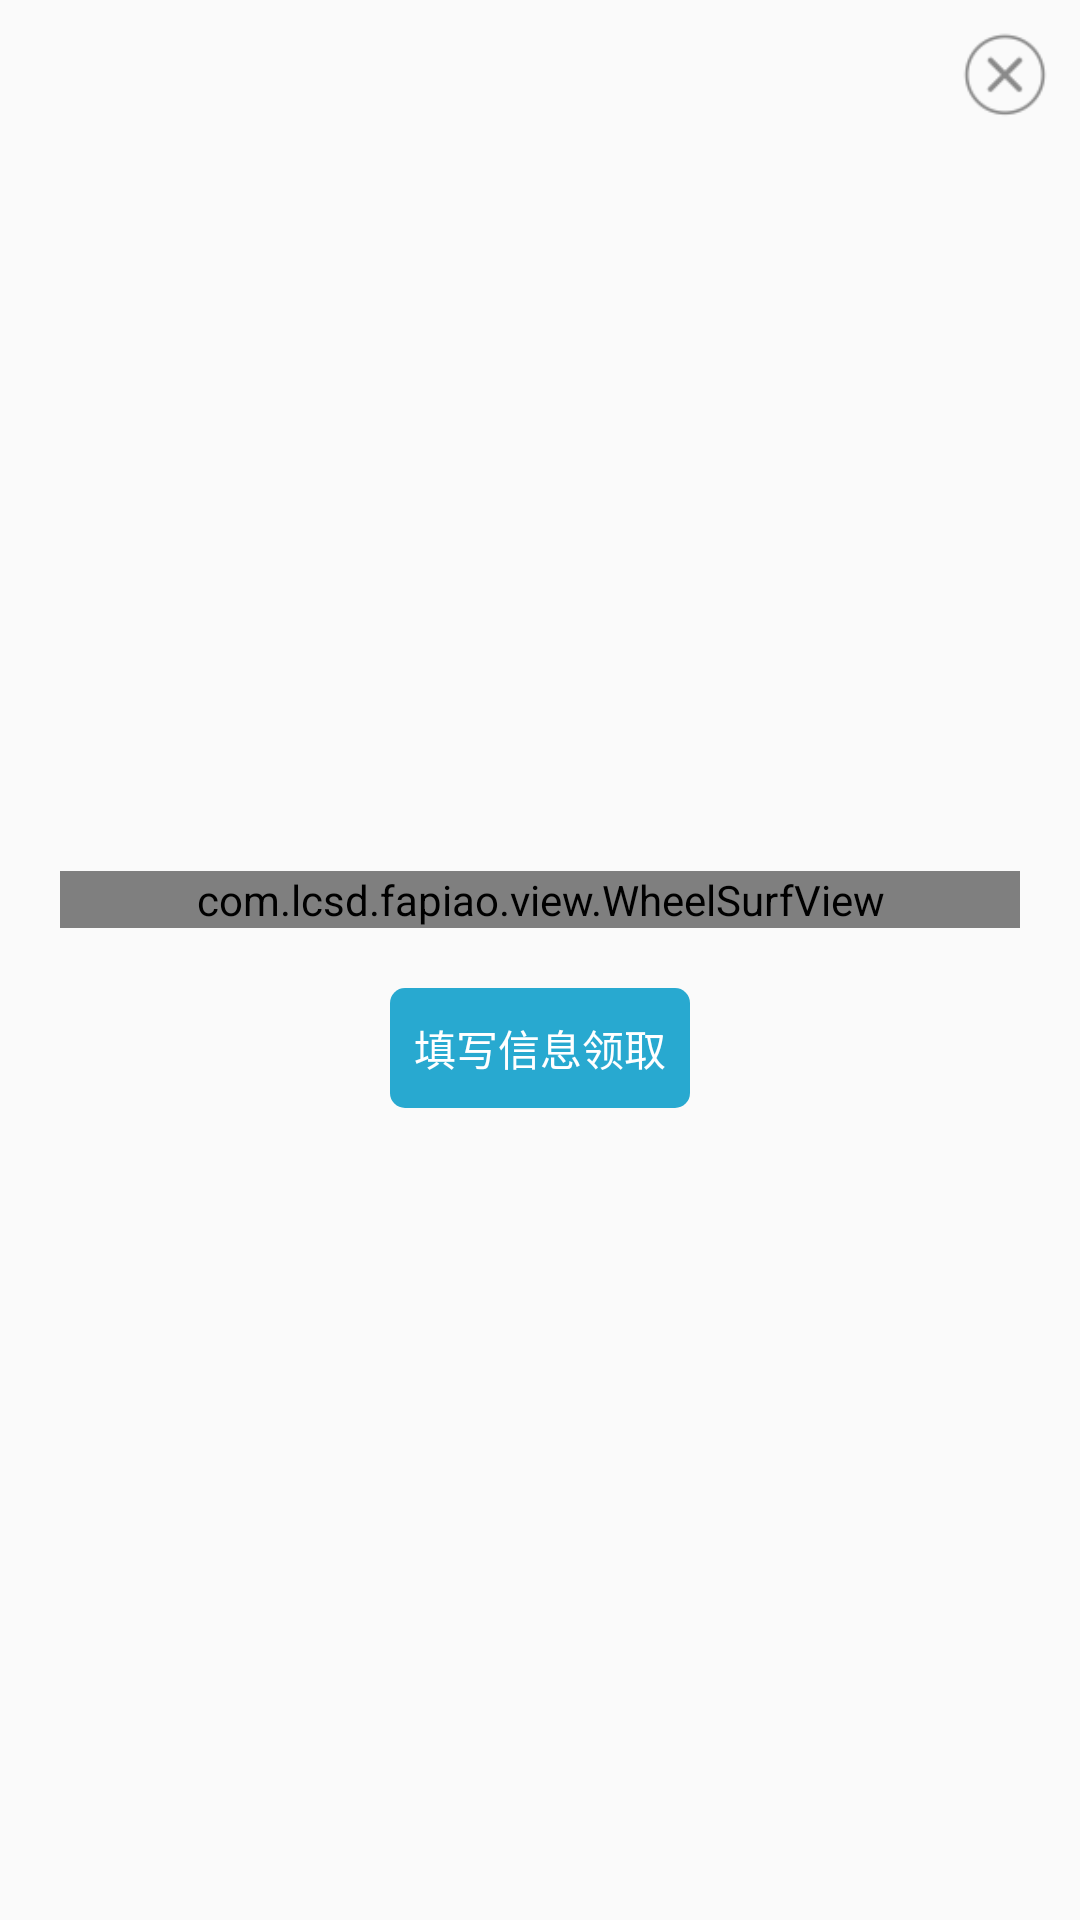

Named icons in this screenshot (1080px x 1920px) and their bounding boxes, (x1, y1, x2, y2):
cancel: (965, 34, 1045, 115)
